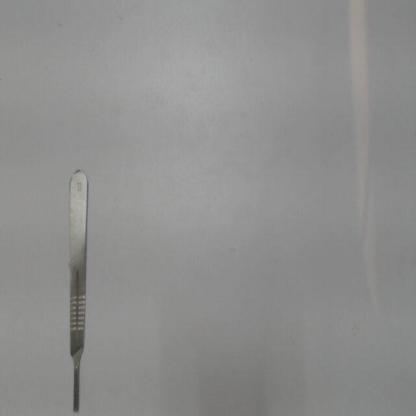No.4 BP Handle: (63, 166, 96, 415)
